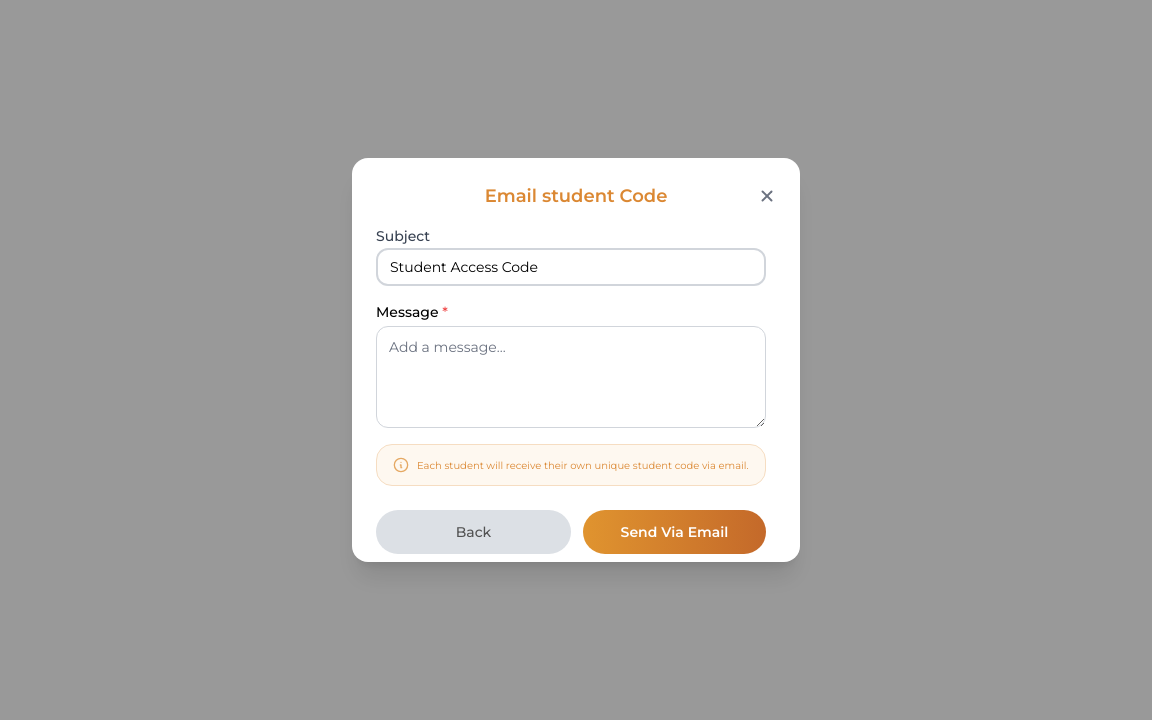
BulkEmailAccessCodeModal › shows confirmation popup with correct count when students have missing emails
Step 1. Type "Hello" into the text box with placeholder "Add a message..." → (571, 377), box 376,326 -> 766,428
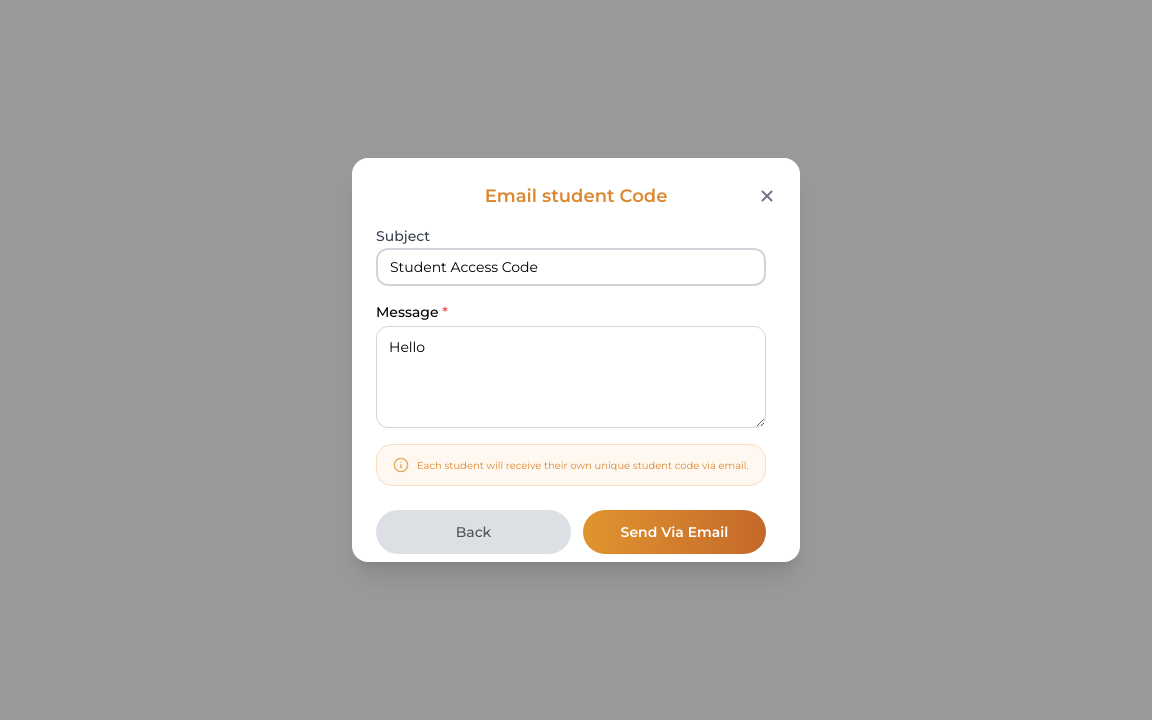
Step 2. Click the button "Send Via Email" → (674, 532), box 583,510 -> 766,554
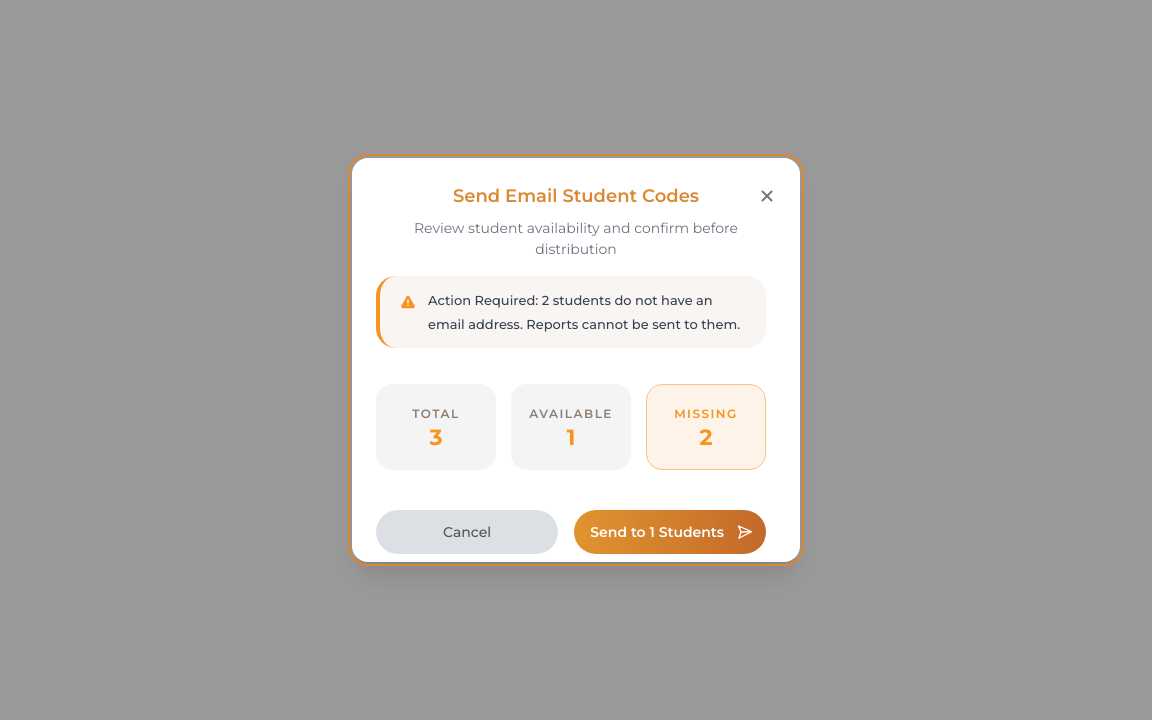
Check: the text "students do not have an email address. Reports cannot be sent to them." is shown, box 428,292 -> 740,332
Check: the text "2" is shown, box 700,427 -> 712,449
